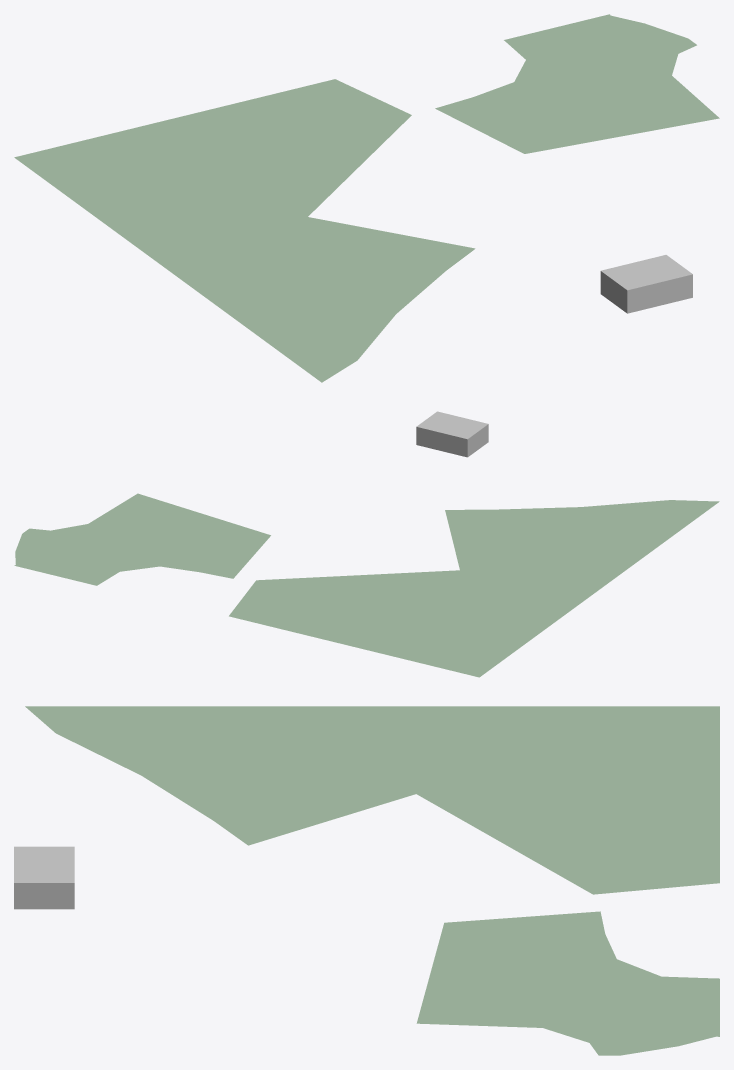
File: 95_107_mid.glb
3 views of the same model, one above another, from view 1: azimuth 30°, elevation 25°; view 2: azimuth 150°, elevation 25°; view 3: azimuth 270°, elevation 25° (orthographic). The views are drawn at different scales.
Bounding box in the file's own units: 500 × 18.67 × 430.
